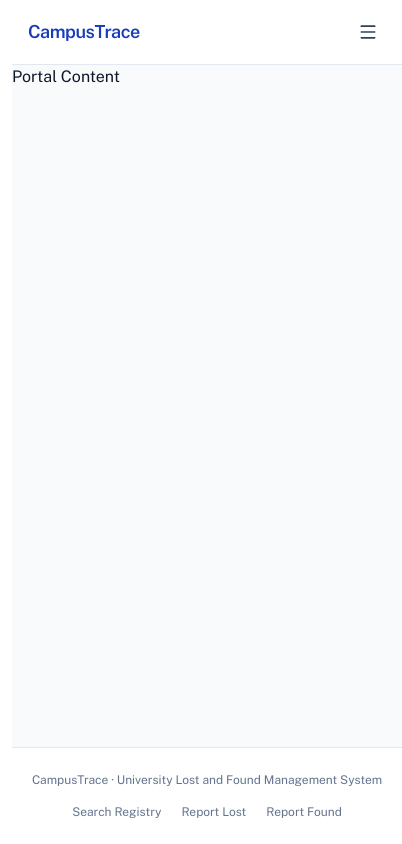
Functional Testing Suite › TC-FUNC-13: Toggles responsive mobile navigation drawer and exposes workspace links
Click the button named "Toggle navigation menu": click(368, 32) [350,14,386,50]
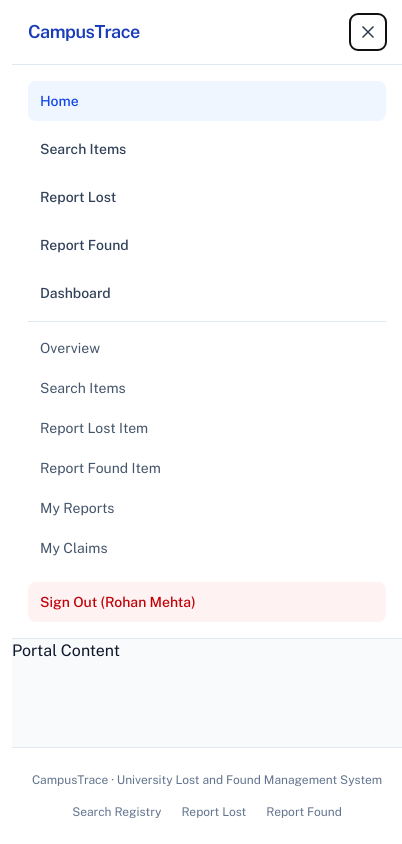
Expected: the button "My Reports" is shown, [28,490,386,526]
Expected: the button "My Claims" is shown, [28,530,386,566]
